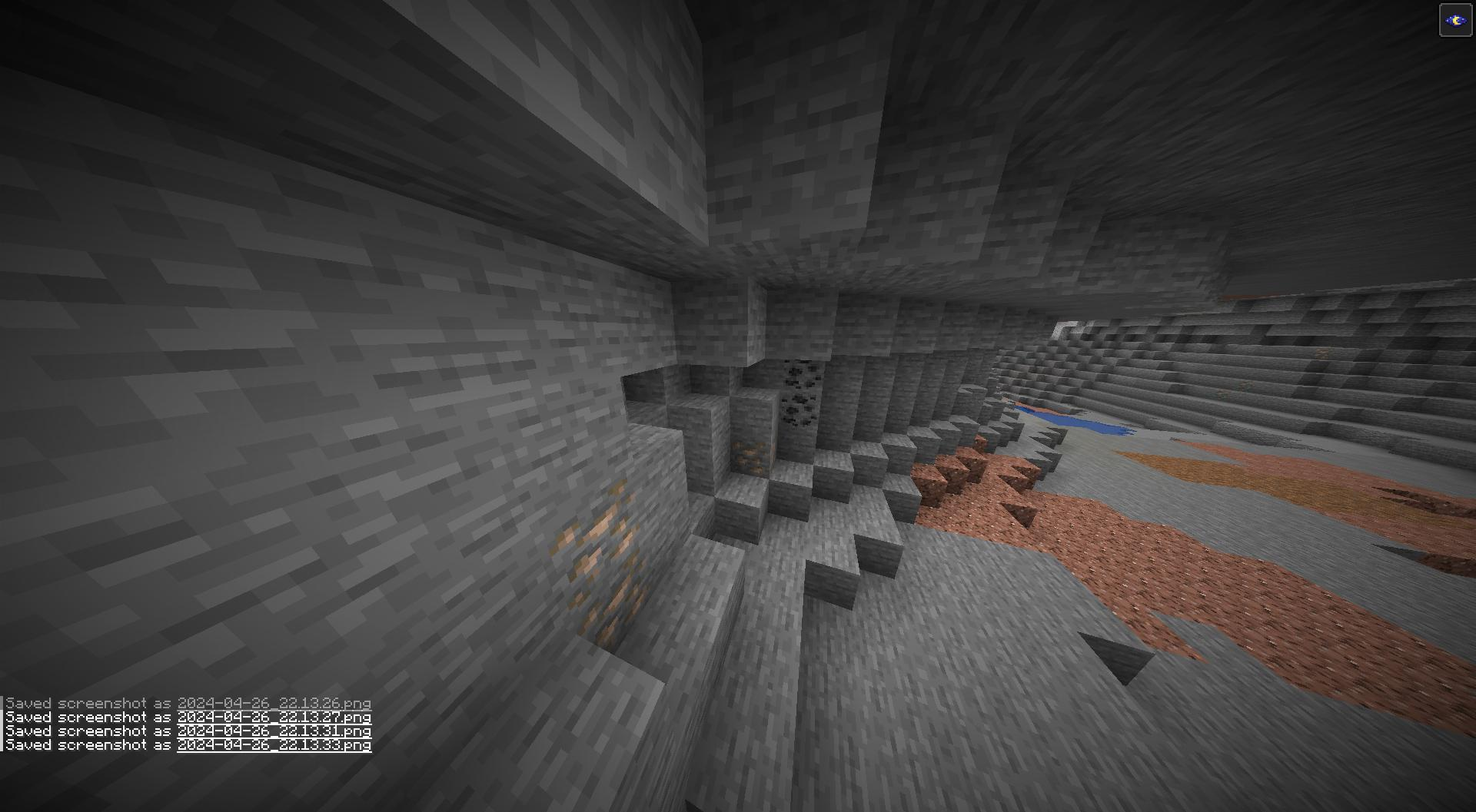iron ore: (551, 491, 642, 635), (731, 439, 778, 481)
